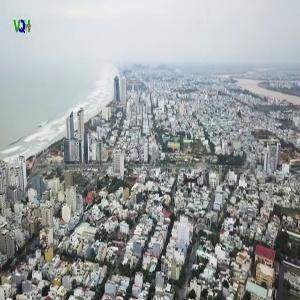drone: (166, 153, 220, 207)
